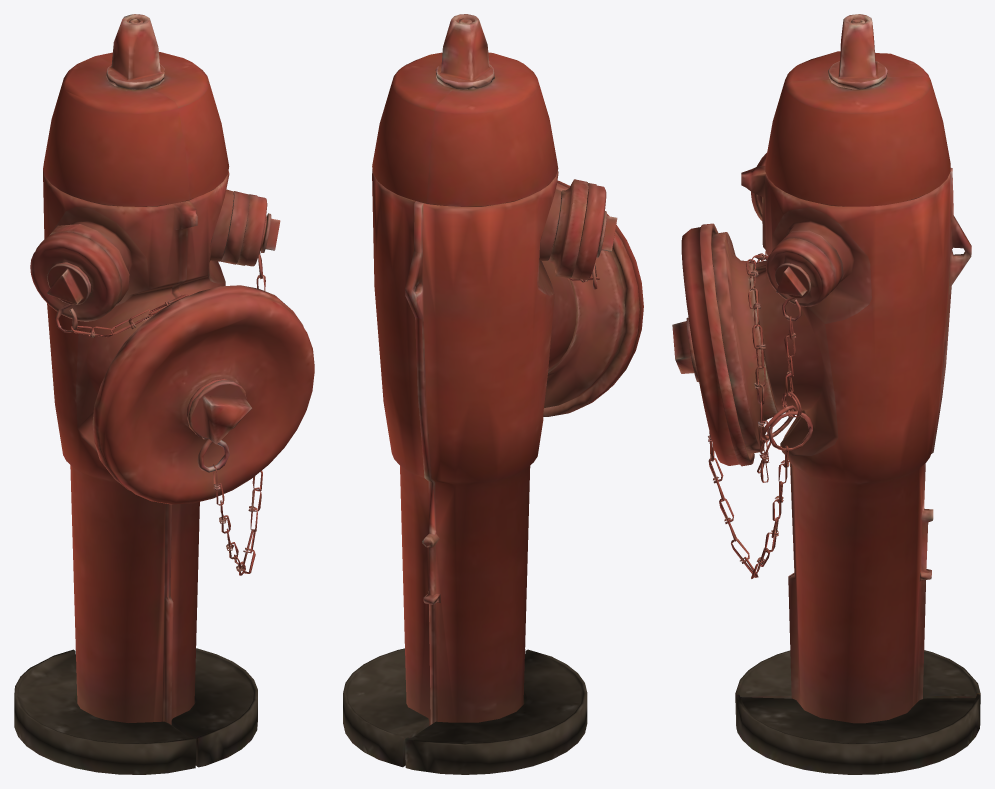
Rendered from hydrant.glb.
3 views of the same model, side by side, from view 1: azimuth 30°, elevation 25°; view 2: azimuth 150°, elevation 25°; view 3: azimuth 270°, elevation 25° (orthographic).
Visible parts, largest first — view 1: fire_hydrant, fire_hydrant_cap_01, fire_hydrant_cap_03, fire_hydrant_chain, fire_hydrant_cap_02; view 2: fire_hydrant, fire_hydrant_cap_01, fire_hydrant_cap_03; view 3: fire_hydrant, fire_hydrant_cap_01, fire_hydrant_chain, fire_hydrant_cap_02.
Boxes of the visible parts, left/top/right/bottom form: fire_hydrant: left=14, top=14, right=257, bottom=774; fire_hydrant_cap_01: left=92, top=285, right=314, bottom=504; fire_hydrant_cap_03: left=30, top=232, right=121, bottom=321; fire_hydrant_chain: left=55, top=215, right=266, bottom=575; fire_hydrant_cap_02: left=236, top=194, right=280, bottom=266; fire_hydrant: left=343, top=14, right=625, bottom=774; fire_hydrant_cap_01: left=543, top=180, right=643, bottom=416; fire_hydrant_cap_03: left=571, top=183, right=617, bottom=279; fire_hydrant: left=712, top=14, right=980, bottom=774; fire_hydrant_cap_01: left=672, top=223, right=754, bottom=466; fire_hydrant_chain: left=708, top=251, right=812, bottom=578; fire_hydrant_cap_02: left=766, top=238, right=835, bottom=306.
Bounding box in the file's own units: 0.2746 × 0.7994 × 0.3173.
1 material, 1 textured.
